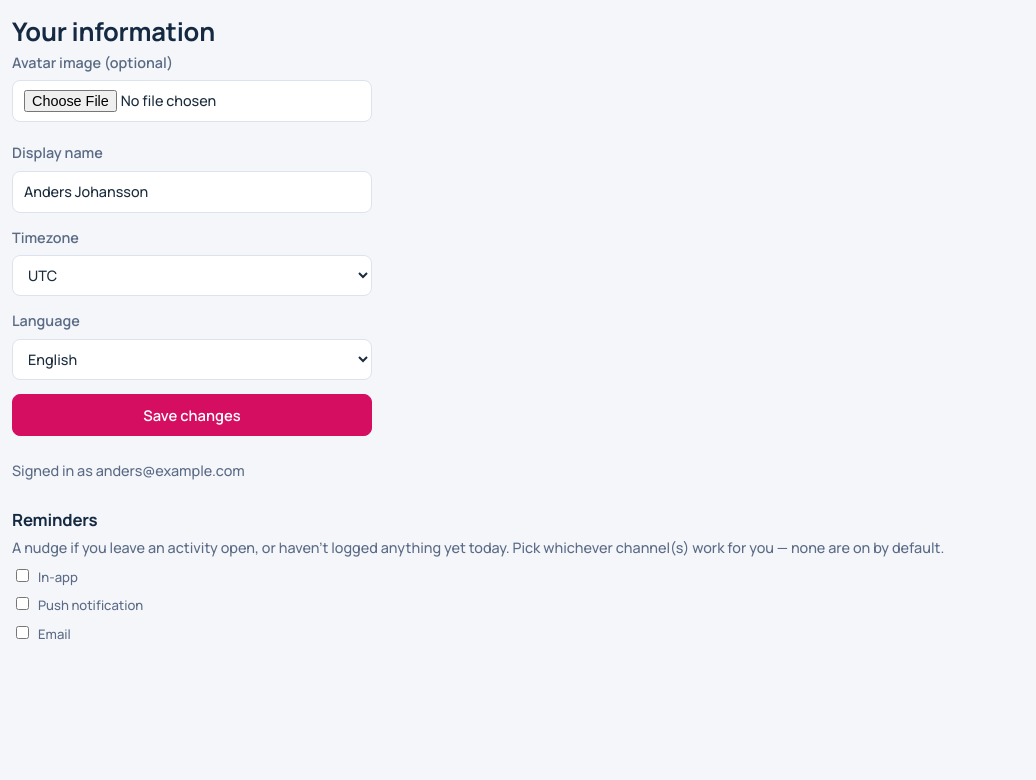
Test case: ProfilePage › shows an error message when toggling a reminder channel fails
The width and height of the screenshot is (1036, 780).
What coordinates should you click on to do the following:
click the checkbox labelled "In-app"
I would click on:
 (22, 576)
Its box is x1=16 y1=569 x2=29 y2=582.
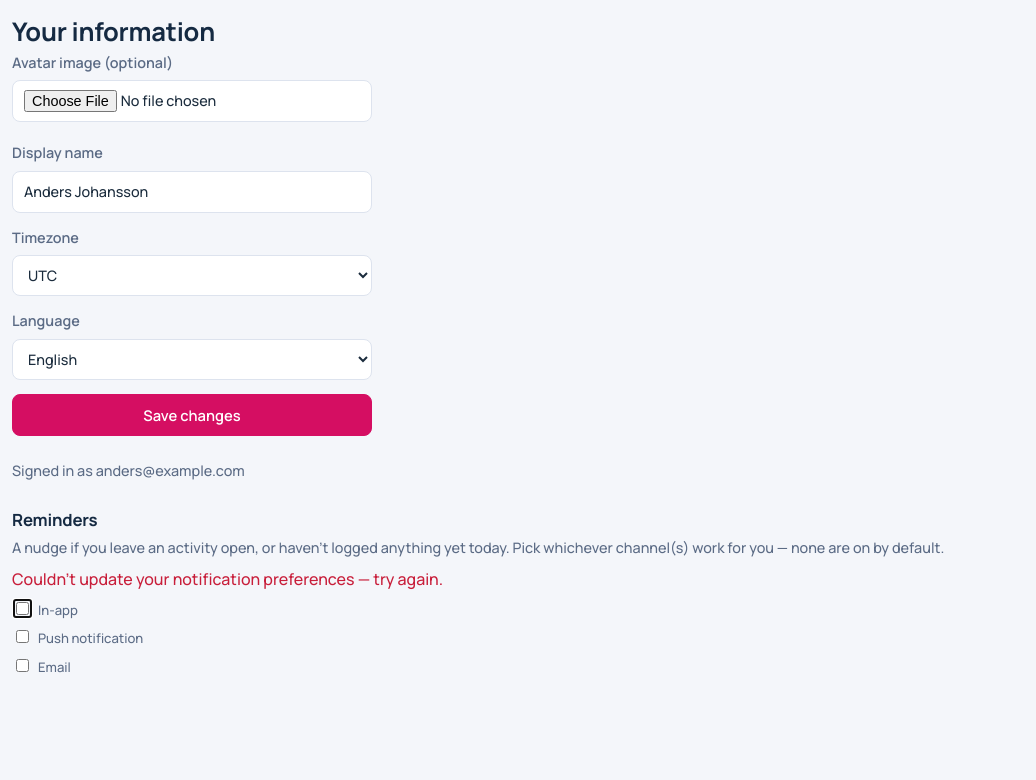
Check: the text "Couldn't update your notification preferences — try again." is shown, box x1=12 y1=568 x2=443 y2=590
